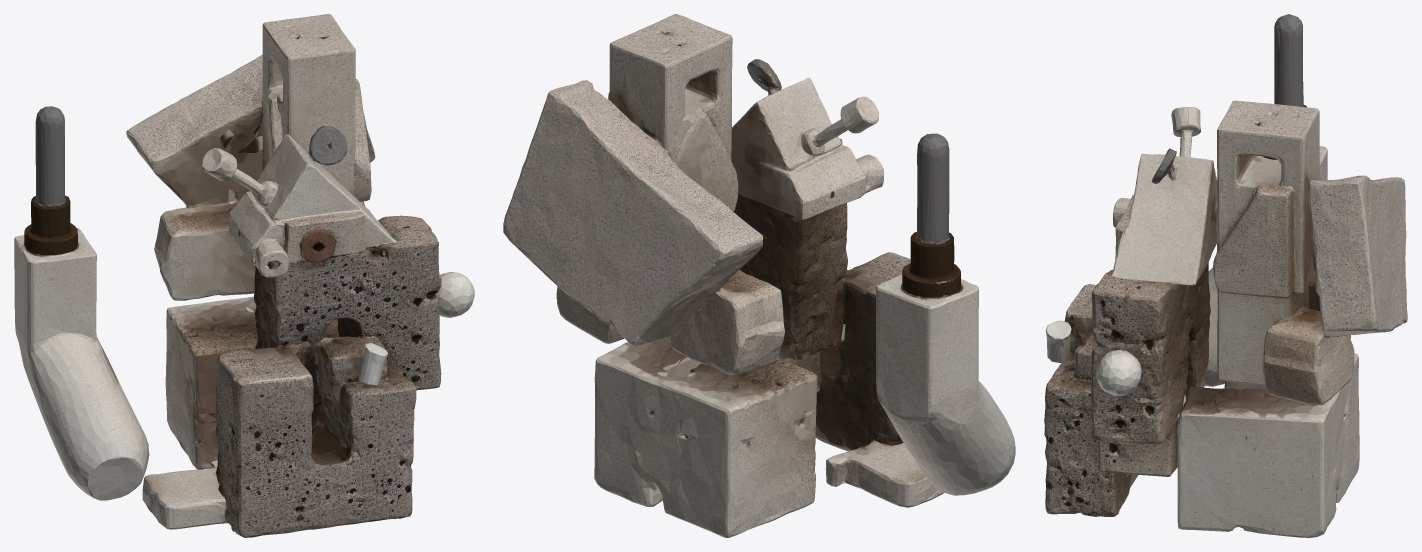
The model's file is tail (204).glb.
The picture shows the model from 3 angles, left to right: view 1: azimuth 30°, elevation 25°; view 2: azimuth 150°, elevation 25°; view 3: azimuth 270°, elevation 25°; orthographic projection. The views are drawn at different scales.
Parts seen in each view (by area): view 1: Hy21_Mesh.obj; view 2: Hy21_Mesh.obj; view 3: Hy21_Mesh.obj.
Part boxes in pixels (x1,y1,x2,y2): Hy21_Mesh.obj: (14, 14, 474, 537); Hy21_Mesh.obj: (503, 14, 1015, 537); Hy21_Mesh.obj: (1044, 14, 1407, 537).
Size of the model in its own units: 1.95 by 1.96 by 1.61.
1 material, 1 textured.
